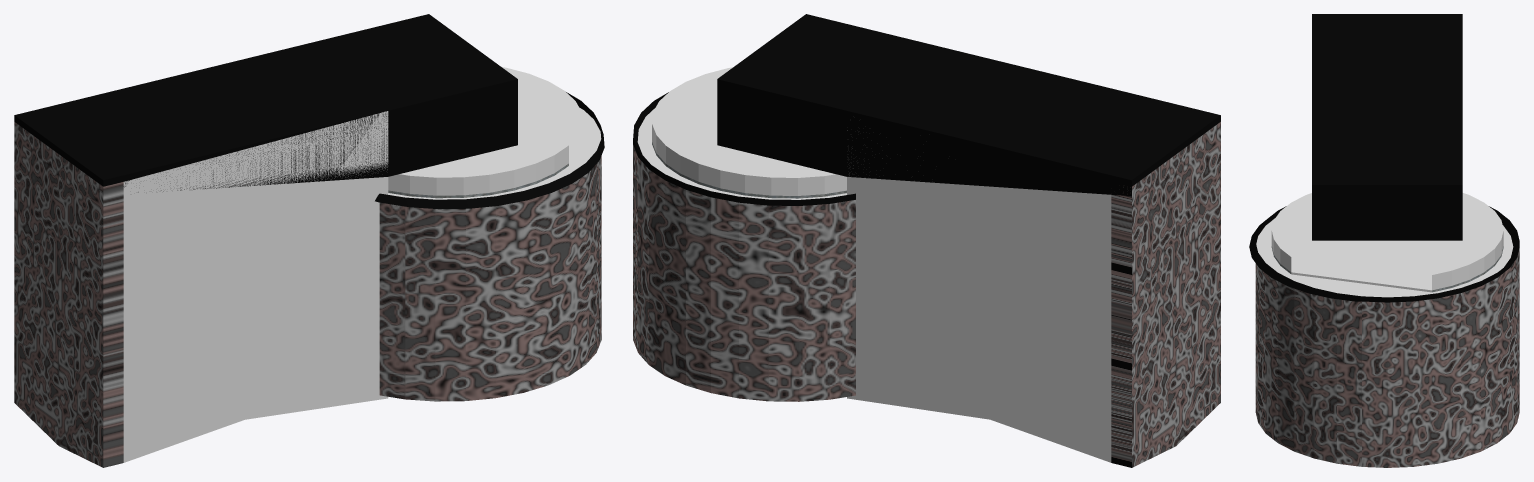
Rendered from cave_security_room_2.fbx.
The picture shows the model from 3 angles, left to right: view 1: azimuth 30°, elevation 25°; view 2: azimuth 150°, elevation 25°; view 3: azimuth 270°, elevation 25°; orthographic projection. The views are drawn at different scales.
Parts seen in each view (by area): view 1: Cube.004; view 2: Cube.004; view 3: Cube.004.
Boxes of the visible parts, left/top/right/bottom form: Cube.004: left=14, top=14, right=604, bottom=467; Cube.004: left=633, top=14, right=1220, bottom=467; Cube.004: left=1249, top=14, right=1519, bottom=467.
Bounding box in the file's own units: 806 × 440 × 428.
3 materials, 1 textured.
